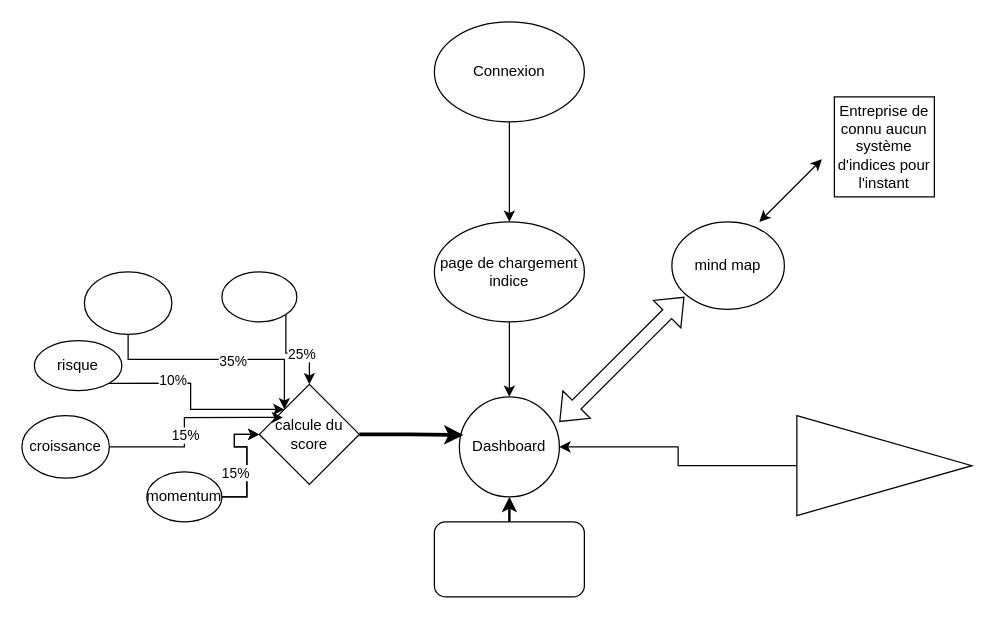
Image size: 994x619. Some labels were removed from this diagram. The centre of each missing label's shape, as x and y in pixels:
calculs: point 508,559
Parametres: point 884,465
qualité: point 259,296
valorisation: point 127,302
